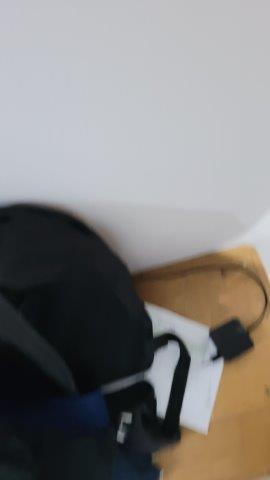kertas: (124, 302, 224, 435)
